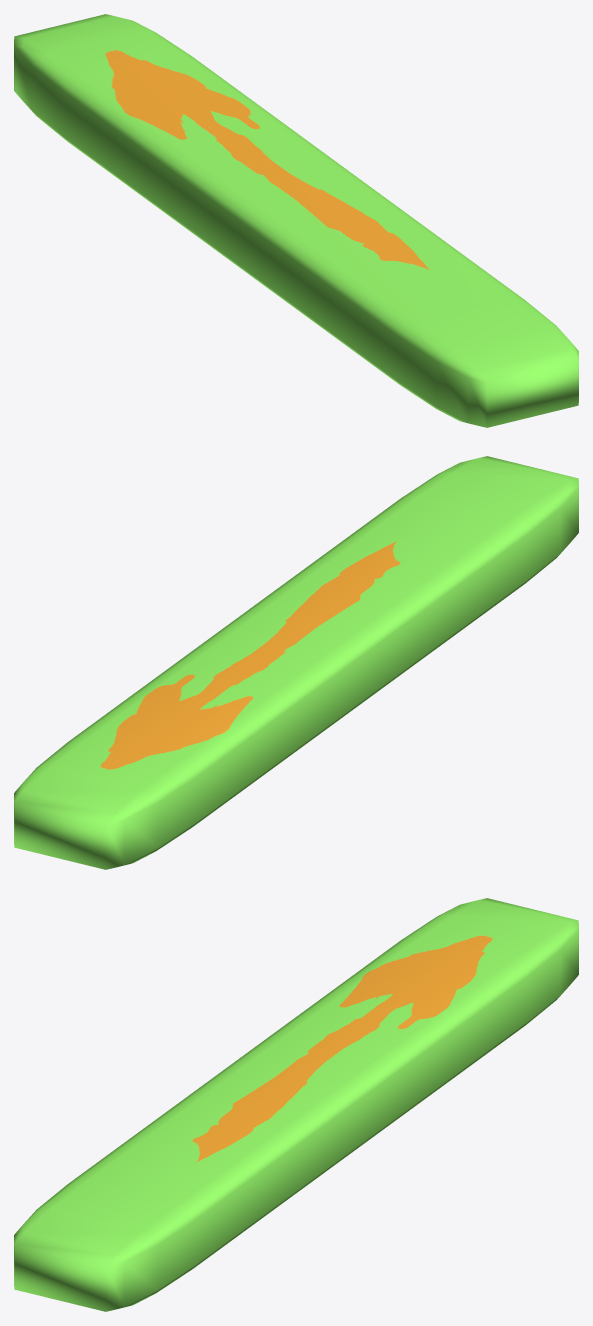
The model's file is TileGigante.fbx.
3 renders of one model, top to bottom at view 1: azimuth 30°, elevation 25°; view 2: azimuth 150°, elevation 25°; view 3: azimuth 330°, elevation 25°, orthographic.
Visible parts, largest first — view 1: Cube; view 2: Cube; view 3: Cube.
Part boxes in pixels (x1,y1,x2,y2): Cube: [14, 14, 578, 427]; Cube: [14, 456, 578, 869]; Cube: [14, 898, 578, 1311].
Size of the model in its own units: 5741 by 2713 by 36203.
Materials: 1 (1 with a texture image).
